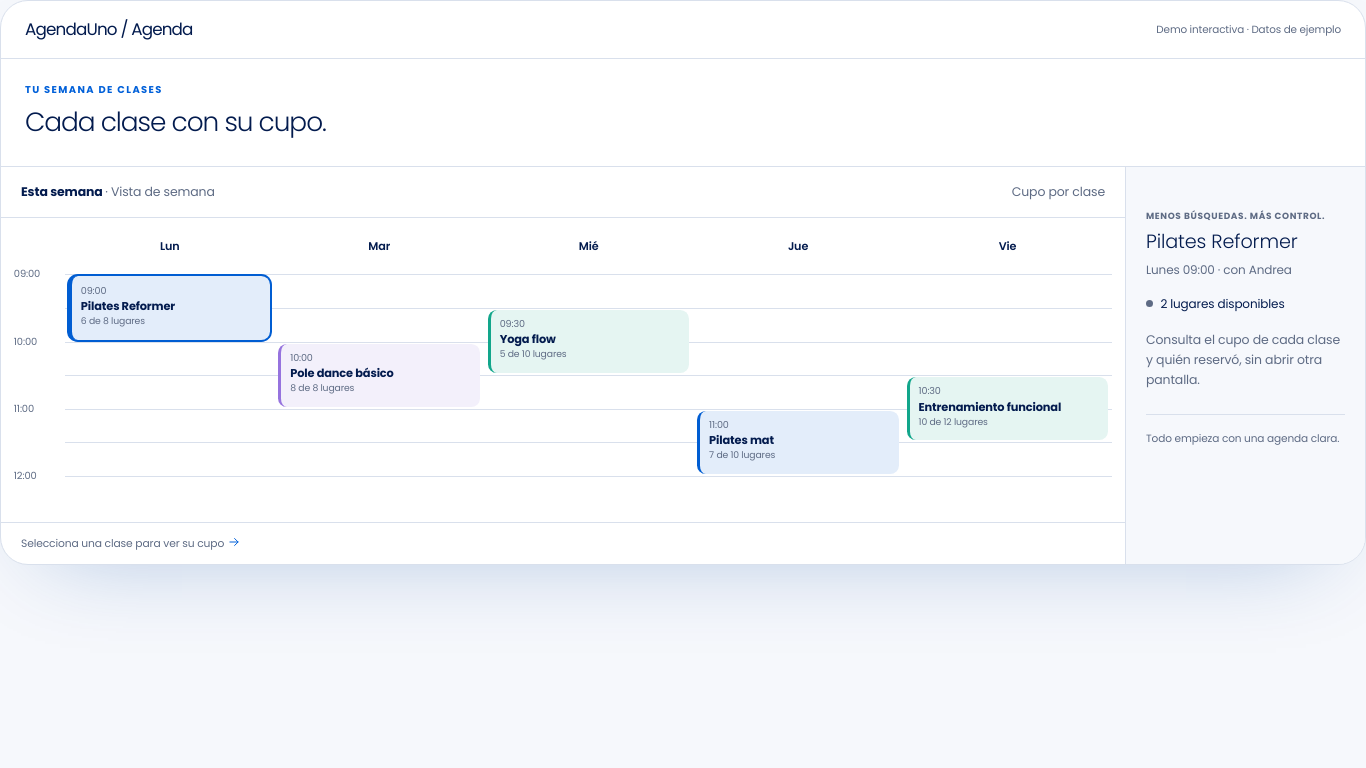
Test: demo de agenda › con modo clases muestra la semana con cupos, sin selector ni columnas por instructor
This screenshot has width=1366, height=768.
Expected: the elements with class "demo-columna" read "Lun", "Mar", "Mié", "Jue", "Vie", in this order, [160, 238, 179, 254]; [368, 238, 390, 254]; [579, 238, 598, 254]; [788, 238, 808, 254]; [999, 238, 1016, 254]
Expected: the element with class "demo-dia" shows "Vista de semana", [105, 183, 215, 200]
Step 1. Click the button with class "demo-evento" that starts with "Pole dance básico" → (379, 375), box [278, 344, 480, 407]
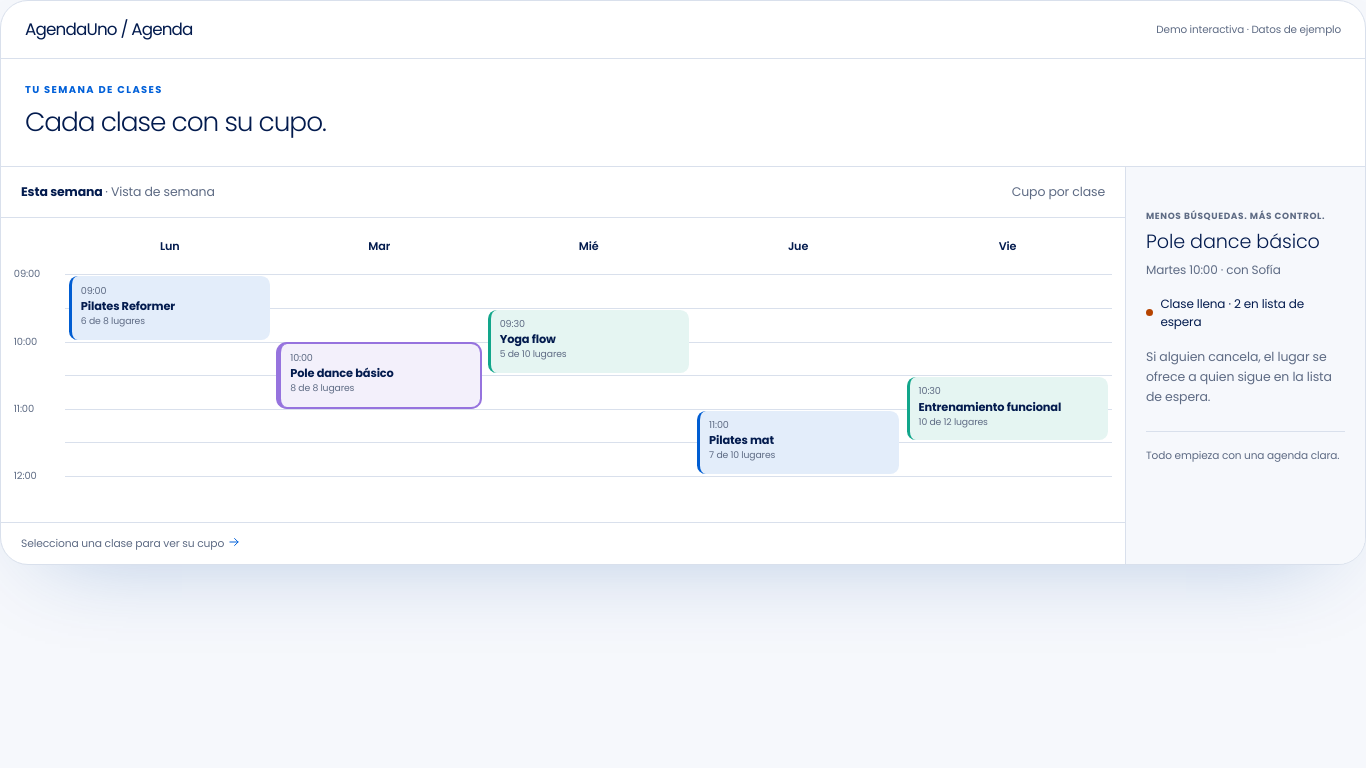
Now the heading "Pole dance básico" is shown, box [1146, 230, 1345, 253]
Now the text with class "demo-estado" reads "Clase llena · 2 en lista de espera", box [1160, 295, 1304, 330]
